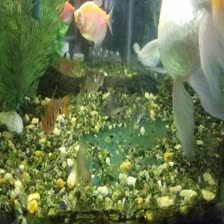Cuezo: (159, 0, 223, 159)
Kiros: (96, 80, 140, 119)
Plano: (66, 0, 114, 49)
Transparente: (34, 78, 80, 137)
